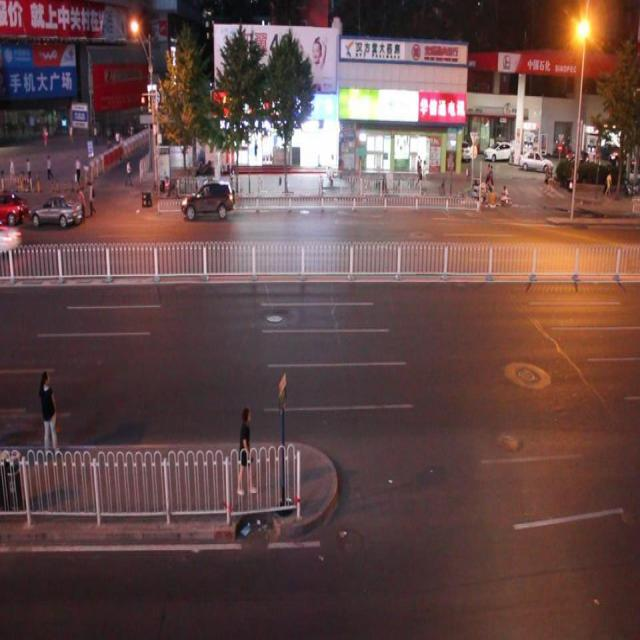car: (178, 176, 240, 222), (35, 187, 86, 236), (0, 171, 29, 238)
